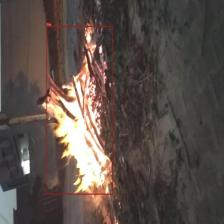fire: (46, 26, 113, 194)
